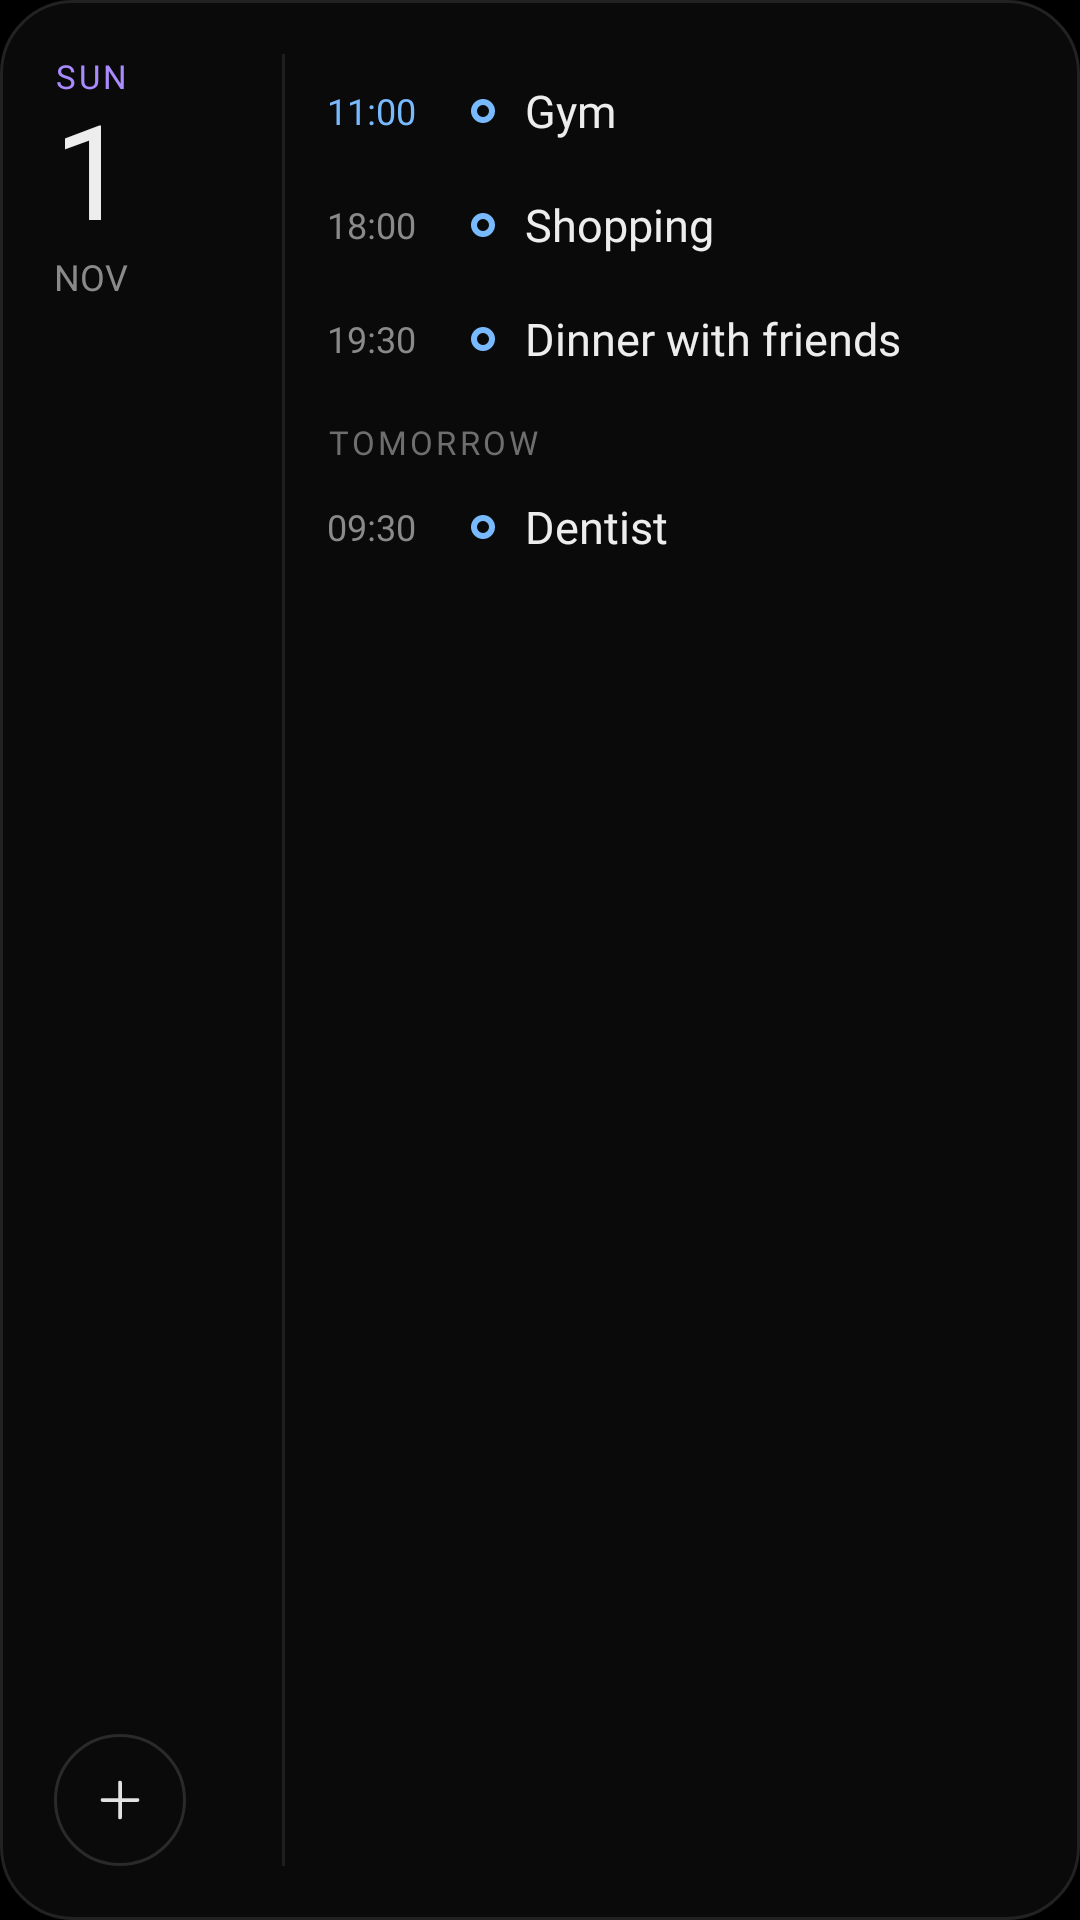

Point at icon controls on the screen. Image size 1080 x 1920, points as point (x, y).
New event: point (120, 1800)
